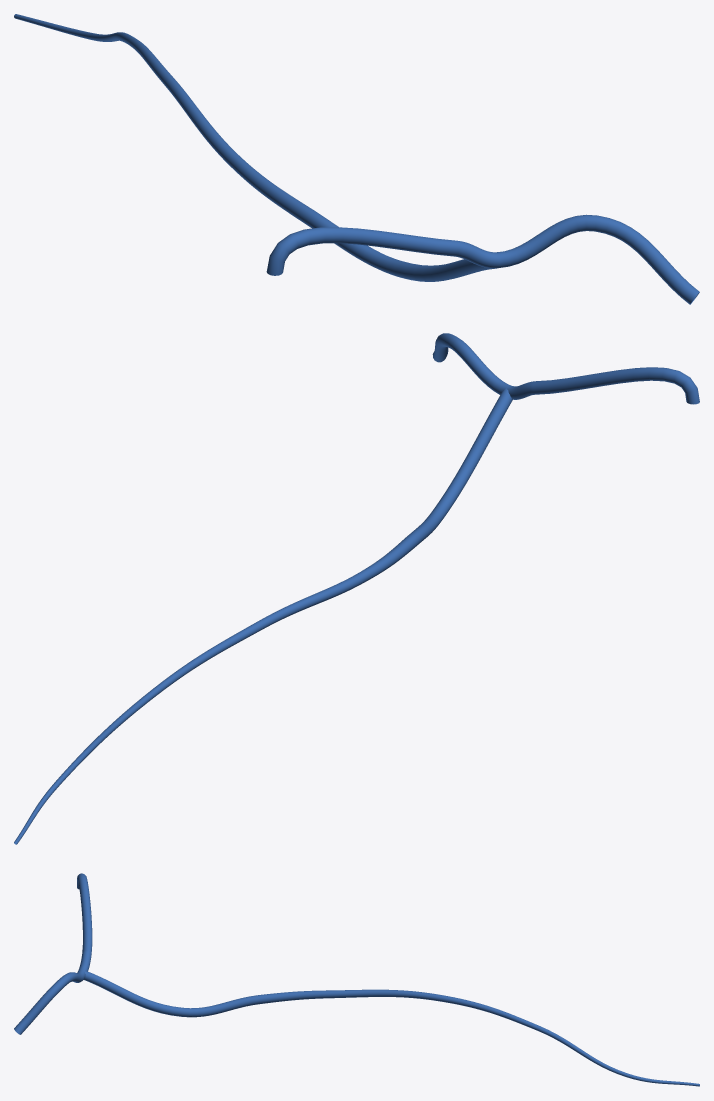
3 renders of one model, top to bottom at view 1: azimuth 30°, elevation 25°; view 2: azimuth 150°, elevation 25°; view 3: azimuth 270°, elevation 25°, orthographic. The views are drawn at different scales.
Parts seen in each view (by area): view 1: 左侧阴部外静脉; view 2: 左侧阴部外静脉; view 3: 左侧阴部外静脉.
Boxes of the visible parts, x1,y1,x2,y2 form: 左侧阴部外静脉: (14, 14, 699, 304); 左侧阴部外静脉: (14, 333, 699, 844); 左侧阴部外静脉: (14, 873, 699, 1086).
Bounding box in the file's own units: 0.0544 × 0.0336 × 0.1499.
